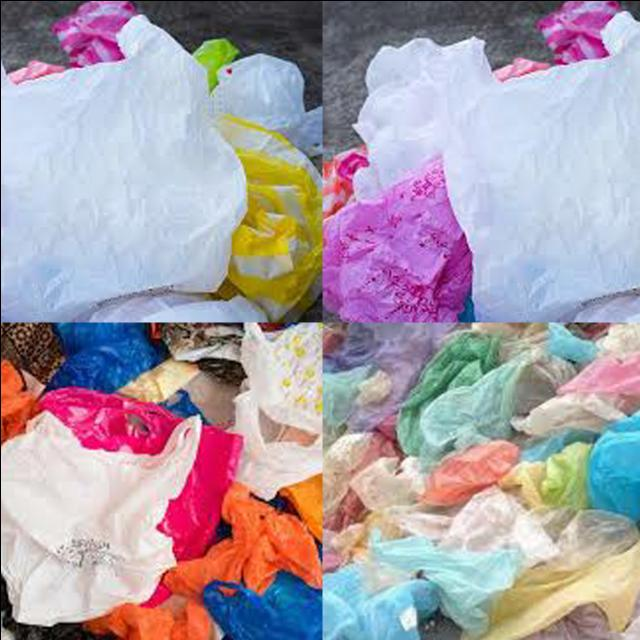plastik: (0, 15, 245, 320), (442, 12, 640, 320), (0, 411, 201, 624), (322, 157, 471, 321), (353, 36, 490, 197), (215, 113, 320, 320), (376, 485, 523, 630), (163, 481, 322, 598), (459, 538, 640, 640), (418, 350, 576, 462), (441, 486, 638, 567), (233, 322, 322, 498), (396, 329, 500, 454), (211, 52, 322, 155), (157, 425, 241, 559), (519, 351, 640, 436), (37, 386, 182, 454), (322, 564, 438, 640), (203, 572, 322, 640), (46, 322, 163, 391), (417, 438, 519, 506), (84, 594, 216, 640), (500, 441, 591, 506), (587, 413, 640, 520), (51, 0, 135, 66), (535, 0, 620, 64), (557, 351, 640, 413), (349, 456, 425, 509)
